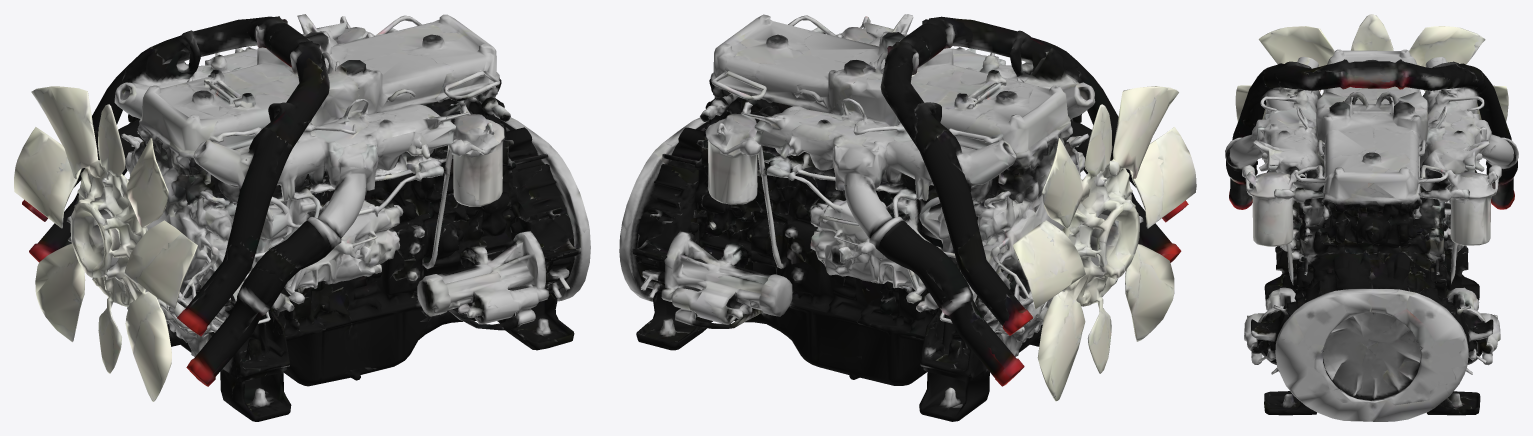
File: motor-mitsubishi-ms6d34.glb
3 renders of one model, left to right at view 1: azimuth 30°, elevation 25°; view 2: azimuth 150°, elevation 25°; view 3: azimuth 270°, elevation 25°, orthographic. The views are drawn at different scales.
Bounding box in the file's own units: 1.9 × 1.33 × 1.31.
Materials: 1 (1 with a texture image).
